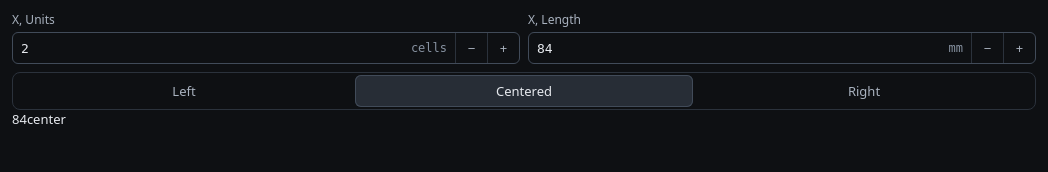
Test: SizeInput › 2.5 ячейки → 105 мм
Replace the text in the field labelled "X, Units" with "2.5". click: (212, 48)
box: x1=13 y1=33 x2=411 y2=63
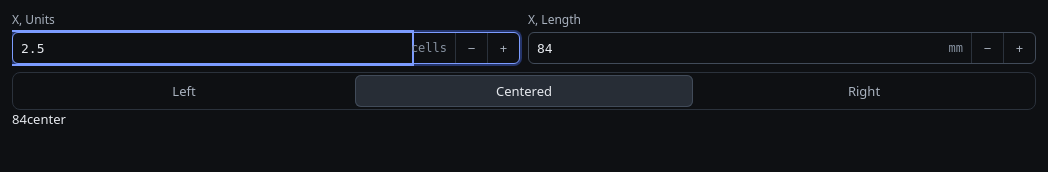
Press Tab
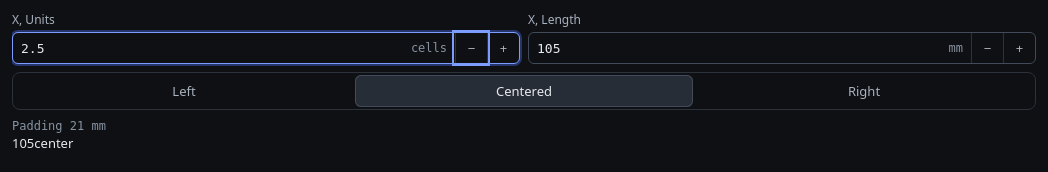
Expected: the field labelled "X, Length" holds "105", x1=529 y1=33 x2=948 y2=63
Expected: the text with test id "mm" reads "105", x1=12 y1=134 x2=34 y2=152
